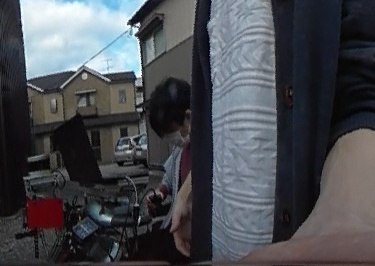person: (132, 72, 192, 266)
